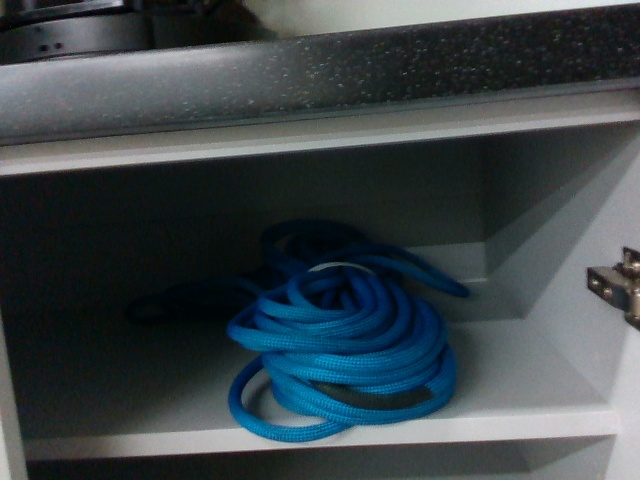rope: (219, 212, 479, 447)
